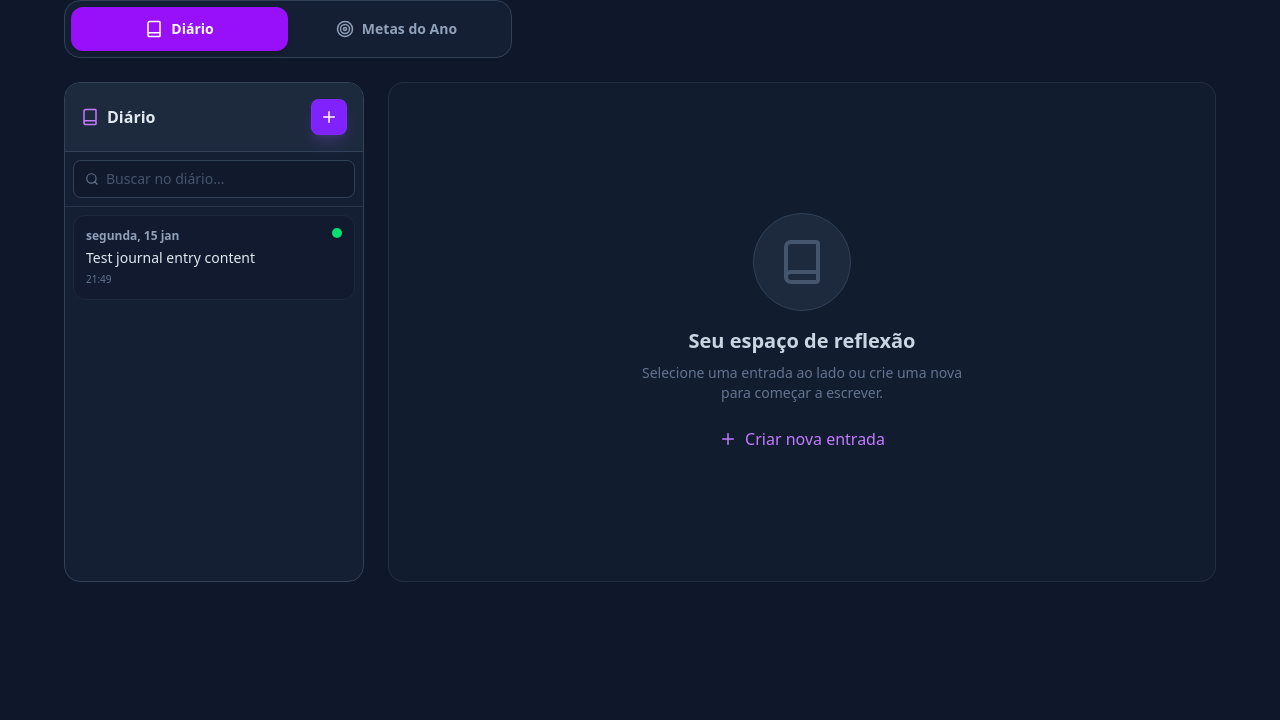
Test case: JournalView › Mood Selector › renders all mood options
The width and height of the screenshot is (1280, 720).
// Select entry to show mood selector
Click the text "Test journal entry content" at (170, 258), box [86,248,255,267]
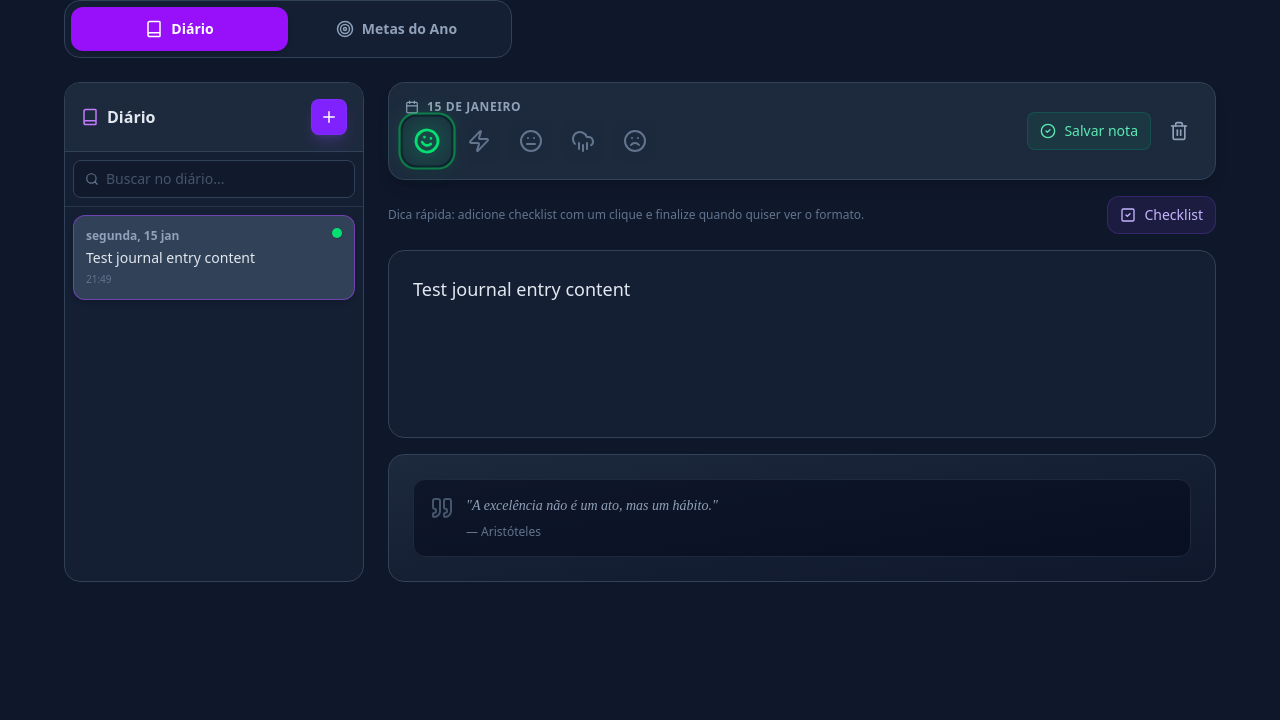
Check: the button titled "Incrível" is shown, box [403,117,451,165]
Check: the button titled "Bem" is shown, box [457,119,501,163]
Check: the button titled "Normal" is shown, box [509,119,553,163]
